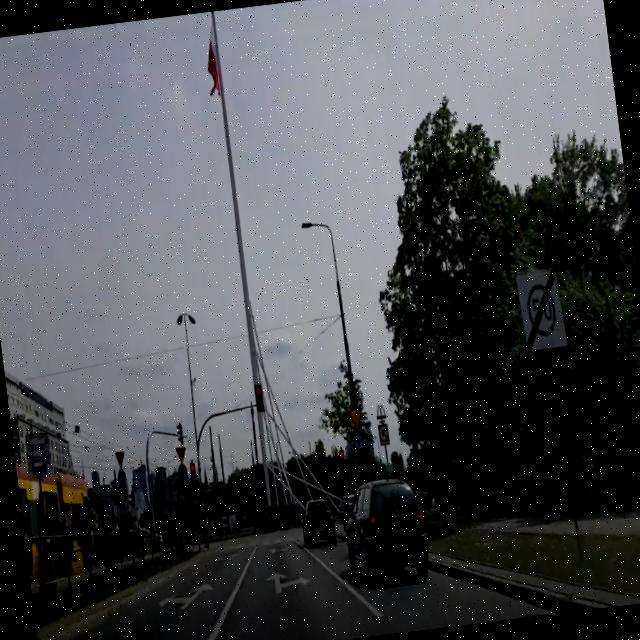Ustap pierwszenstwa: (348, 407, 364, 430), (114, 449, 126, 468), (174, 445, 187, 462)
